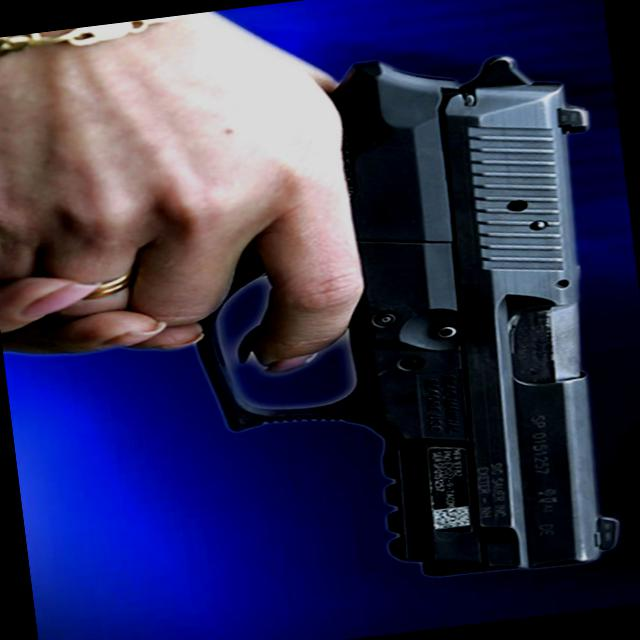handgun: (158, 20, 639, 606)
